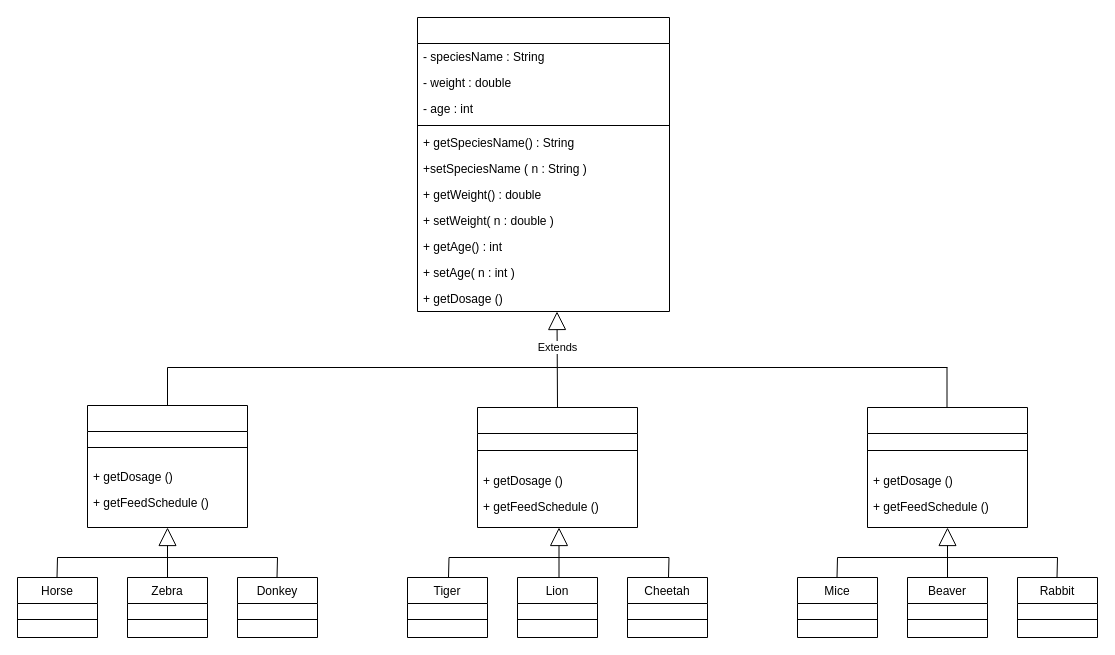
This 1115x655 diagram has some shape labels left out. Here are the shapes that lost their labels. From the top down, the box of each, then its label:
(416, 16, 670, 312): Animal
(86, 404, 248, 528): Equidae
(476, 406, 638, 528): Felidae
(866, 406, 1028, 528): Rodents
